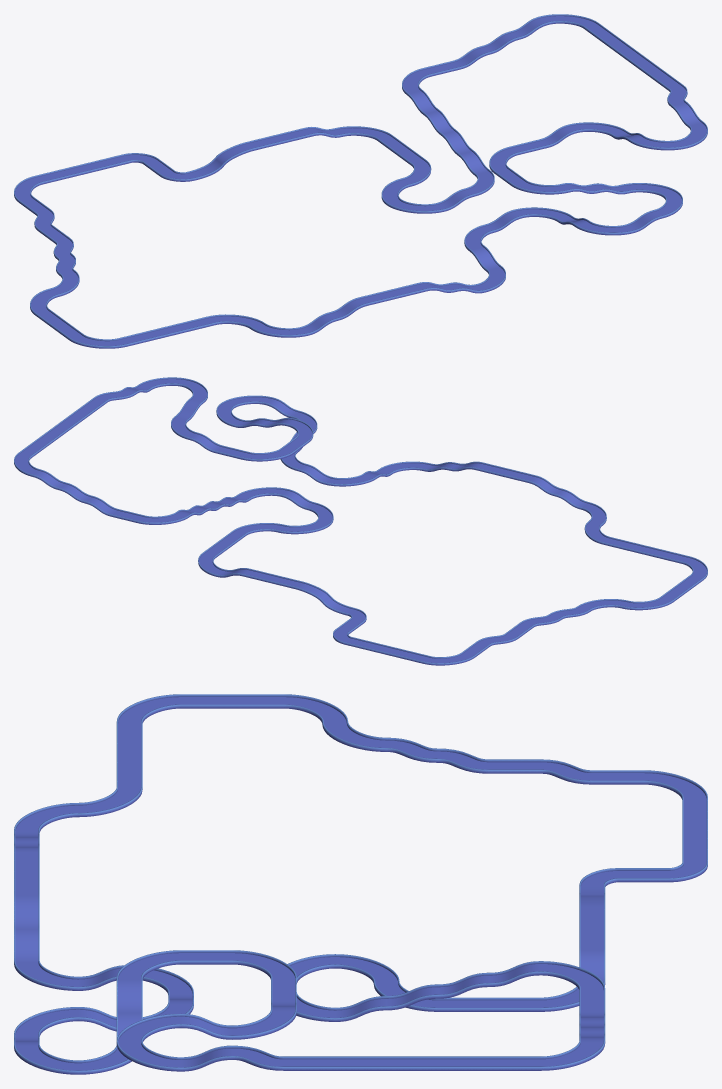
File: track.glb
3 renders of one model, top to bottom at view 1: azimuth 30°, elevation 25°; view 2: azimuth 150°, elevation 25°; view 3: azimuth 270°, elevation 25°, orthographic. The views are drawn at different scales.
Parts seen in each view (by area): view 1: track-wide-corner-large.002, track-wide-corner-large.021, track-wide-corner-large.009, track-wide-corner-large.017, track-wide-corner-large.020, track-wide-corner-large.024, track-wide-corner-large.026, track-wide-corner-large.023; view 2: no part large enough to name; view 3: track-wide-corner-large.008, track-wide-corner-large.018, track-wide-corner-large.031, track-wide-corner-large.005, track-wide-corner-large.022, track-wide-corner-large.026, track-wide-corner-large.019, track-wide-corner-large.027, track-wide-corner-large.015, track-wide-corner-large.024, track-wide-corner-large.006, track-wide-corner-large.013 (+50 smaller).
Boxes of the visible parts, <box> form: track-wide-corner-large.002: <box>334,126,391,140</box>; track-wide-corner-large.021: <box>569,122,626,136</box>; track-wide-corner-large.009: <box>207,314,264,328</box>; track-wide-corner-large.017: <box>515,207,571,221</box>; track-wide-corner-large.020: <box>541,14,598,28</box>; track-wide-corner-large.024: <box>511,180,569,194</box>; track-wide-corner-large.026: <box>629,136,687,150</box>; track-wide-corner-large.023: <box>620,183,677,196</box>; track-wide-corner-large.008: <box>14,803,78,832</box>; track-wide-corner-large.018: <box>14,1007,78,1036</box>; track-wide-corner-large.031: <box>335,954,399,984</box>; track-wide-corner-large.005: <box>643,770,707,799</box>; track-wide-corner-large.022: <box>232,950,296,979</box>; track-wide-corner-large.026: <box>117,1014,180,1043</box>; track-wide-corner-large.019: <box>14,960,78,990</box>; track-wide-corner-large.027: <box>541,961,604,990</box>; track-wide-corner-large.015: <box>117,694,180,723</box>; track-wide-corner-large.024: <box>117,950,180,979</box>; track-wide-corner-large.006: <box>322,721,386,751</box>; track-wide-corner-large.013: <box>14,1044,78,1074</box>.
Size of the model in its own units: 88 by 9.3 by 54.
Materials: 66 (66 with a texture image).
